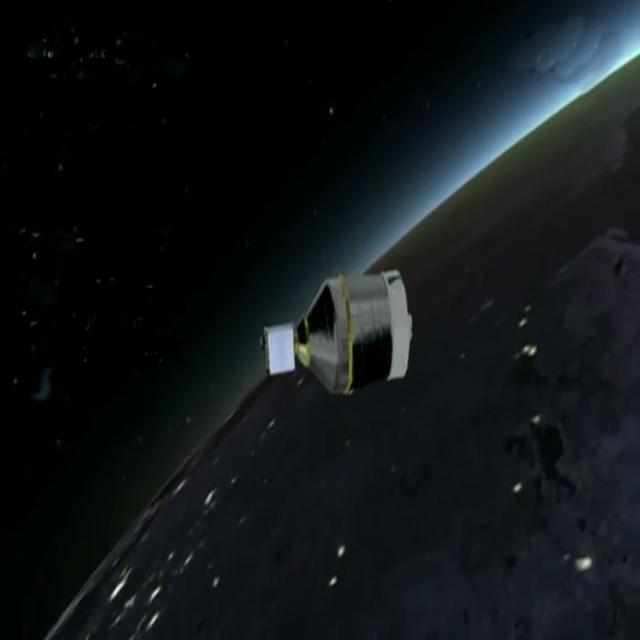satellite: (253, 246, 431, 454)
